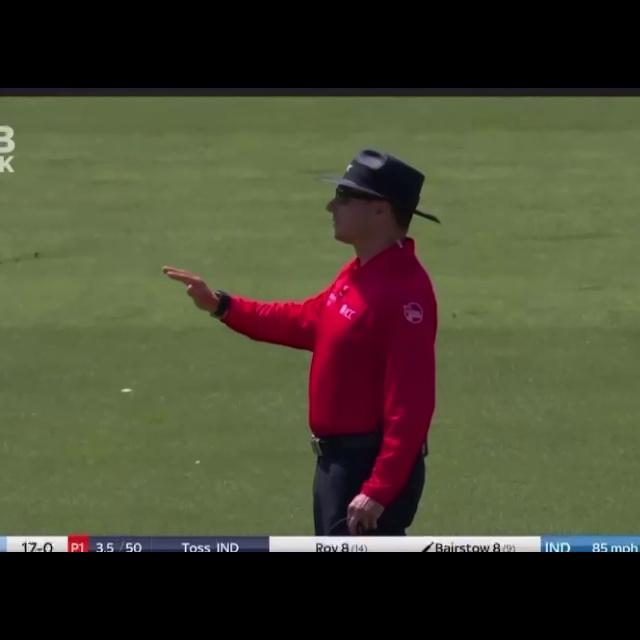umpire: (156, 141, 478, 536)
